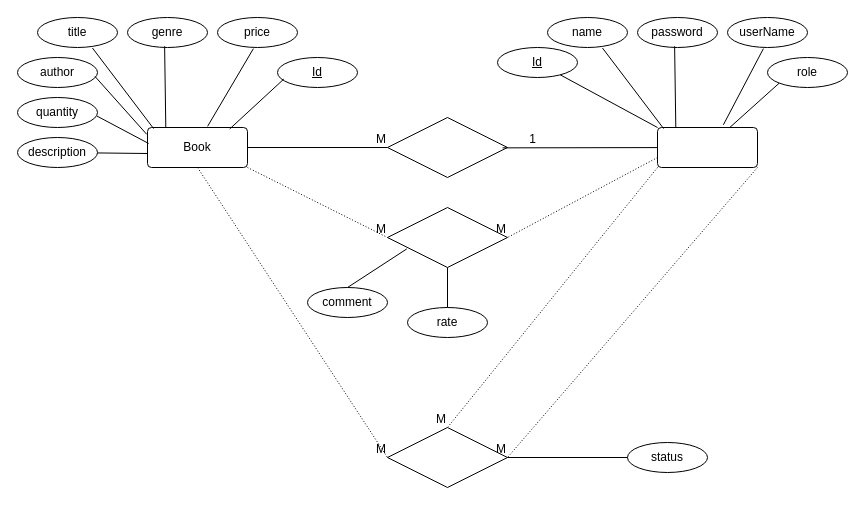
Image size: 865x505. Some labels were removed from this diagram. The shapes that lost their labels are listed below. From the top down, each one's box as (x1, y1, x2, y2) in pixels, then its label:
(386, 116, 508, 178): Own
(656, 126, 758, 168): User
(386, 206, 508, 268): review
(386, 426, 508, 488): Borrow Request
